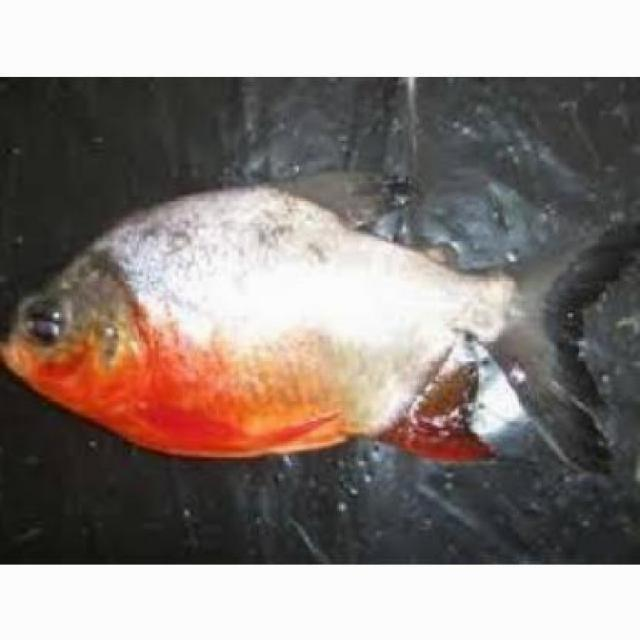ikan-pacu: (0, 179, 618, 473)
